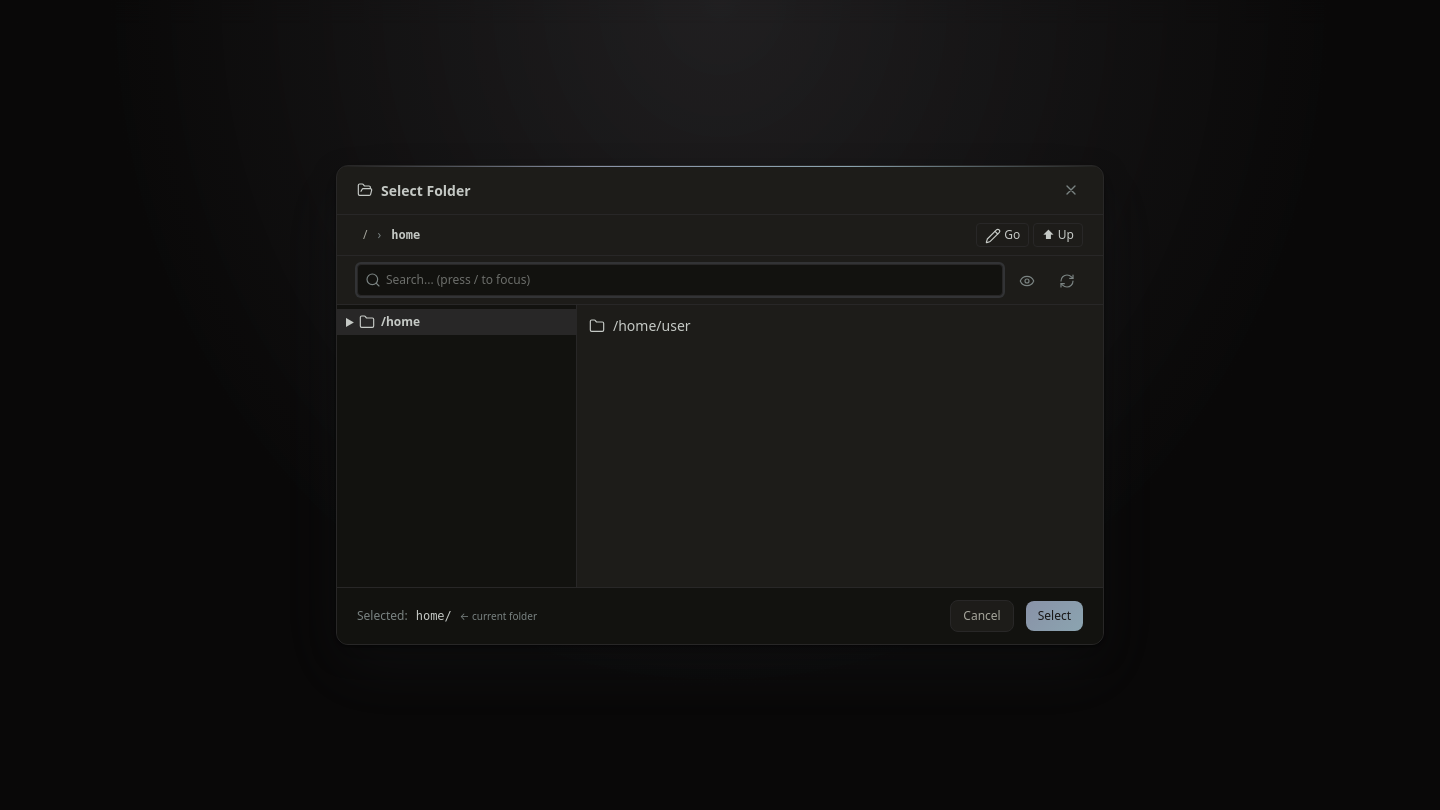
Scenario: FilePickerDialog — Select when current folder is open (folder mode) › Select button is DISABLED after navigating to root via Up
Click the button with test id "file-picker-up": (1058, 235) x1=1033 y1=223 x2=1083 y2=247
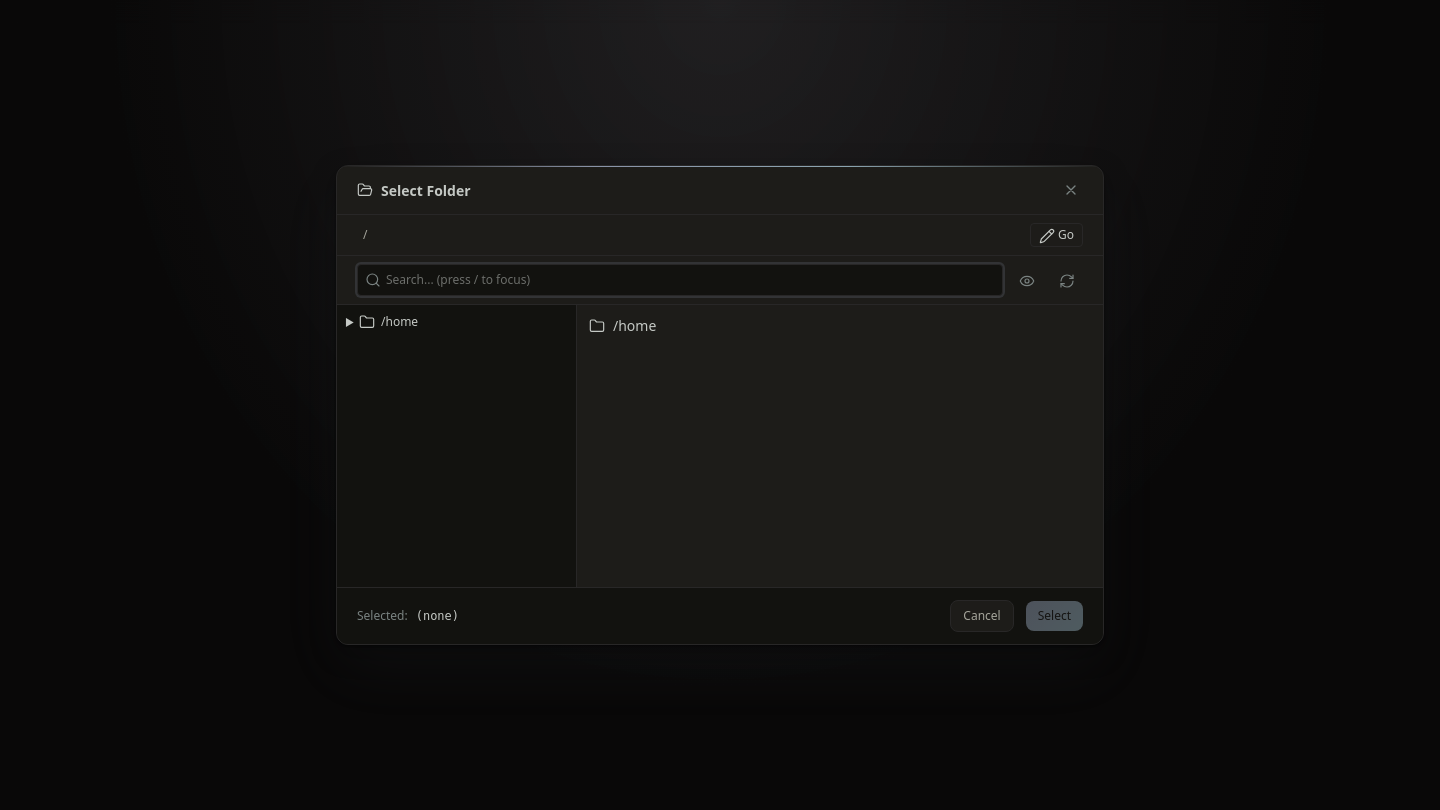
Expected: the button with test id "file-picker-select" is disabled, x1=1026 y1=601 x2=1083 y2=631
Expected: the text with test id "file-picker-selected-path" reads "(none)", x1=416 y1=609 x2=459 y2=623
